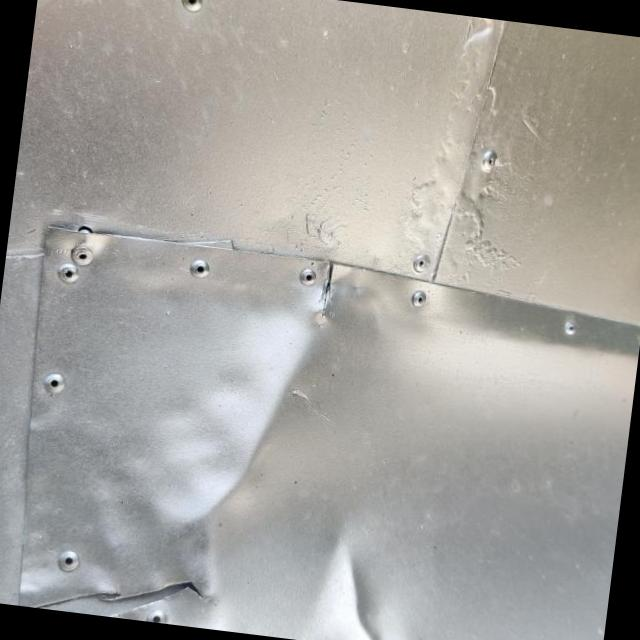Crack: (39, 583, 202, 617), (315, 262, 334, 326)
Dent: (88, 244, 345, 568), (279, 521, 417, 640)
